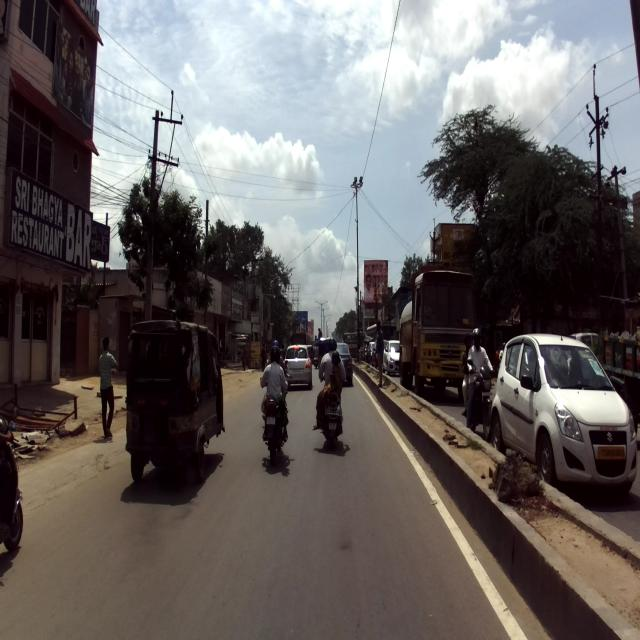Car_Maruti-Suzuki: (487, 331, 636, 494)
autorickshaw: (124, 318, 224, 481)
motorcycle_Hero: (259, 375, 292, 466), (462, 357, 497, 442)
